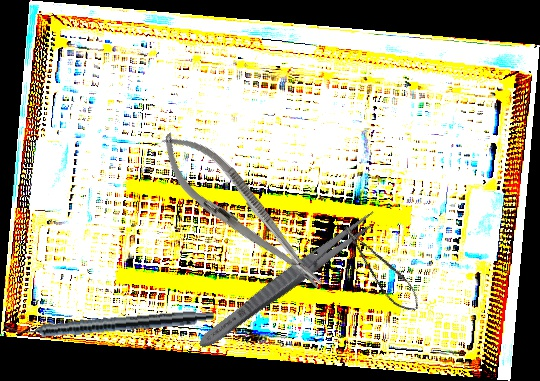Dressing Forceps: (194, 205, 382, 355)
Handpiece: (2, 304, 216, 343)
Micro Scissor: (340, 214, 425, 320)
Needle Holder: (146, 118, 338, 306)
